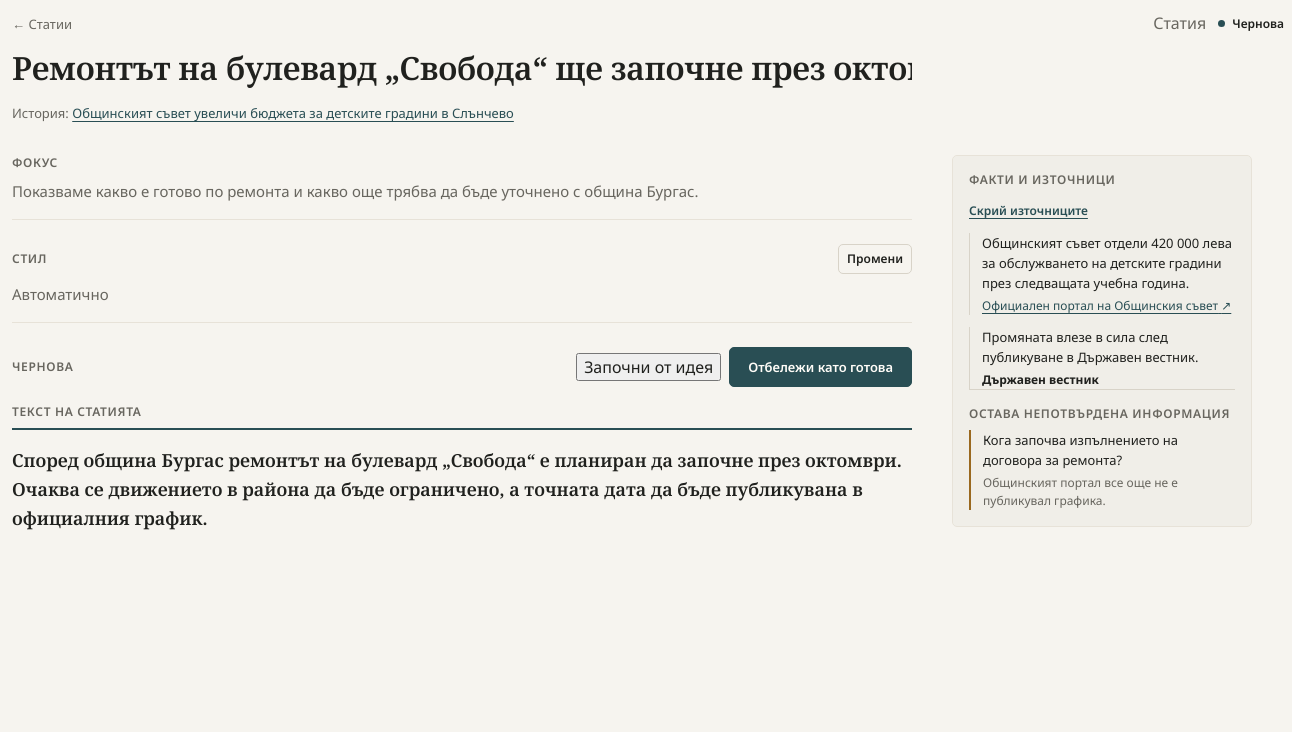
V1.2-G3 §36 — the Draft is the centre of the screen › marks the Draft Ready through the canonical command
Click the button "Отбележи като готова". click: (821, 367)
box: [729,347,912,387]
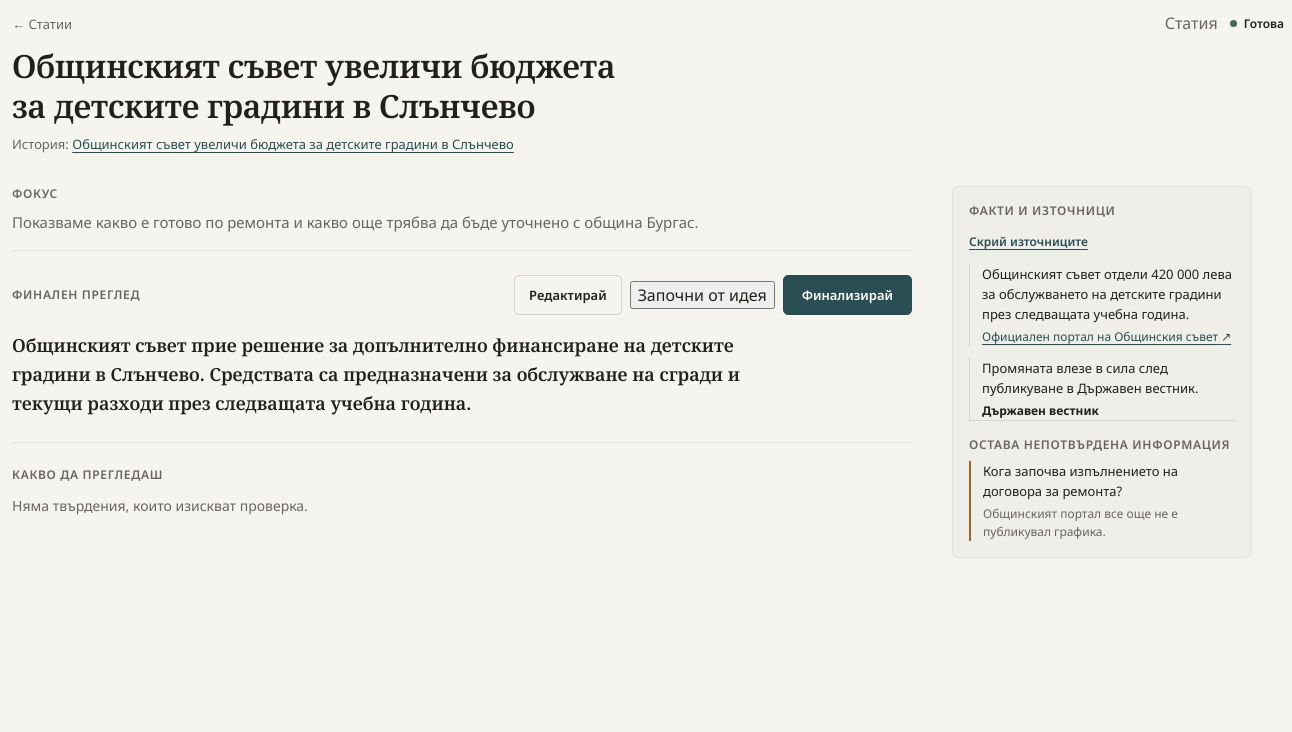
expect the text "Готова" is shown: met, box [1230,14,1284,32]
